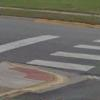Crosswalk: (16, 41, 100, 90)
